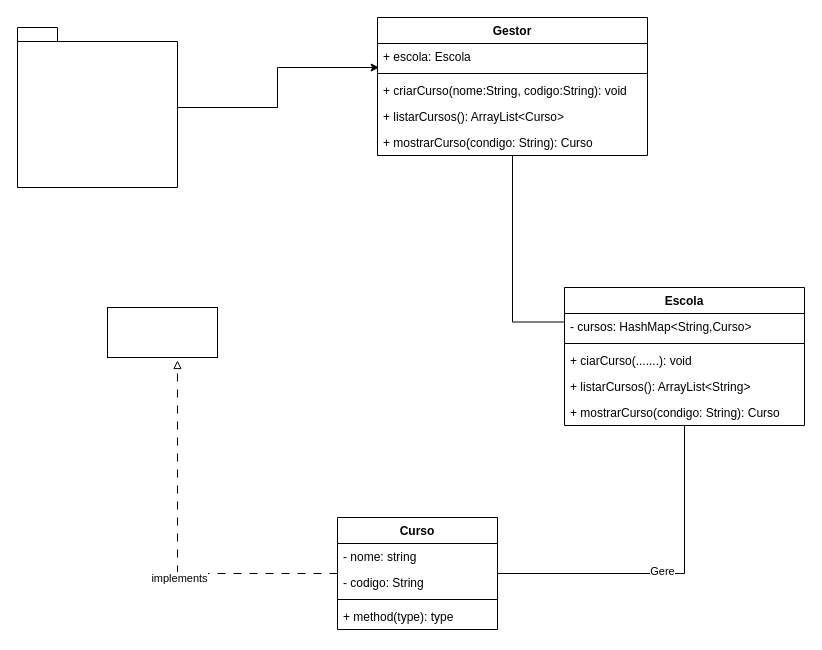
Some shapes in this 822 by 650 pixel diagram are drawn without their labels. The shapes that lost their labels are listed below. From the top down, each one's centre as x and y in pixels, then its label:
(x=97, y=107): App
(x=162, y=332): «interface» Comparable
